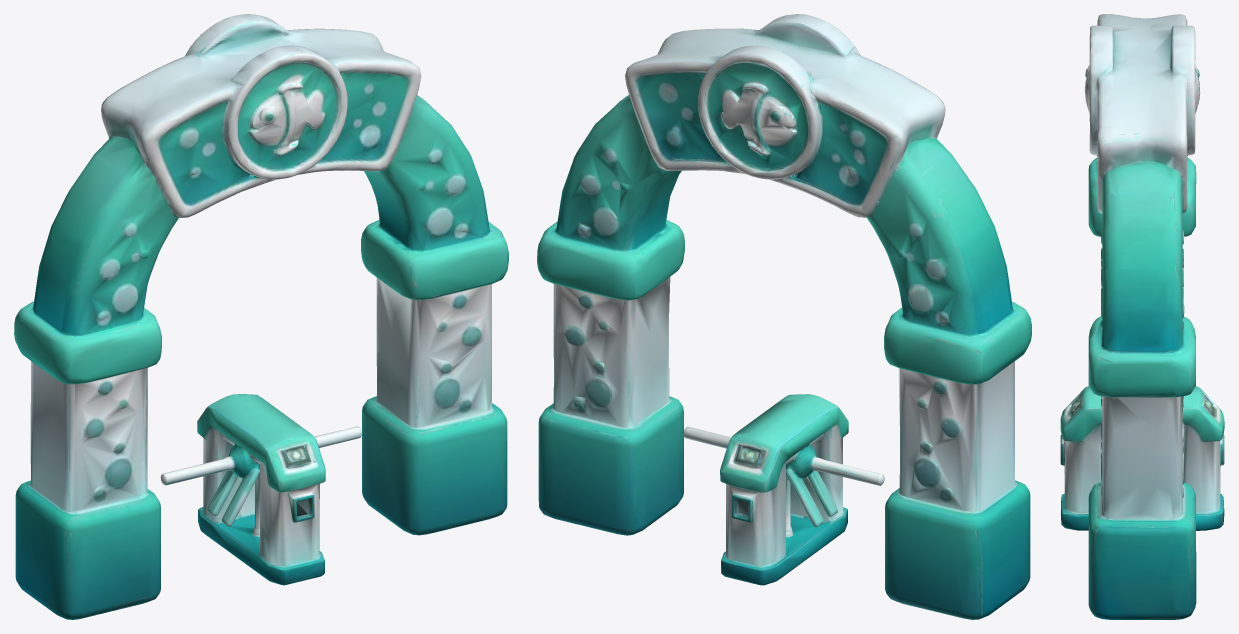
Rendered from building_entrance.glb.
The picture shows the model from 3 angles, left to right: view 1: azimuth 30°, elevation 25°; view 2: azimuth 150°, elevation 25°; view 3: azimuth 270°, elevation 25°; orthographic projection. The views are drawn at different scales.
Parts seen in each view (by area): view 1: Mesh_0; view 2: Mesh_0; view 3: Mesh_0.
Boxes of the visible parts, x1,y1,x2,y2 form: Mesh_0: (14, 14, 508, 619); Mesh_0: (537, 14, 1031, 619); Mesh_0: (1060, 14, 1224, 619).
Bounding box in the file's own units: 1.74 × 1.91 × 0.5813.
1 material, 1 textured.
